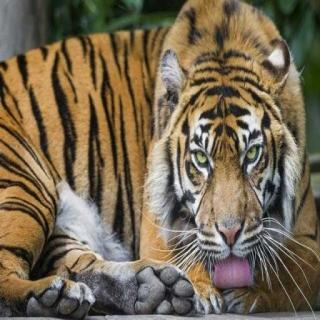Tiger: (4, 0, 319, 315)
